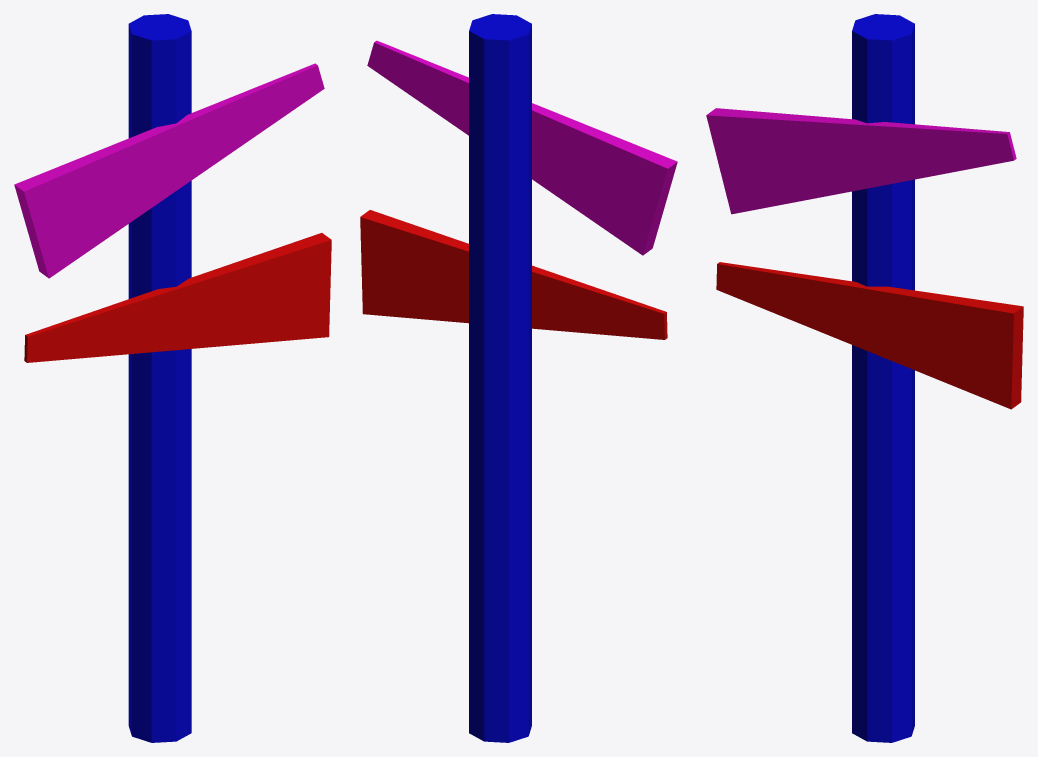
File: cartel dj.fbx
3 renders of one model, left to right at view 1: azimuth 30°, elevation 25°; view 2: azimuth 150°, elevation 25°; view 3: azimuth 330°, elevation 25°, orthographic.
Visible parts, largest first — view 1: CARTEL; view 2: CARTEL; view 3: CARTEL.
Boxes of the visible parts, x1=… form: CARTEL: x1=14, y1=14, x2=331, y2=742; CARTEL: x1=360, y1=14, x2=677, y2=742; CARTEL: x1=706, y1=14, x2=1023, y2=742.
Size of the model in its own units: 1.73 by 3.77 by 0.3586.
